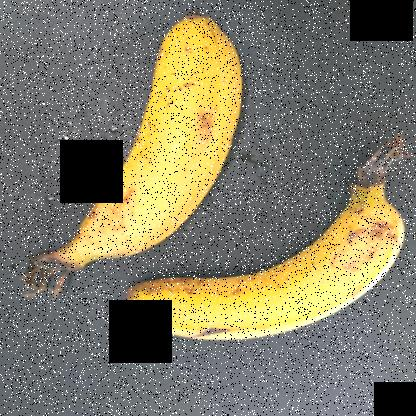ripe: (63, 11, 273, 260), (110, 188, 406, 360)
